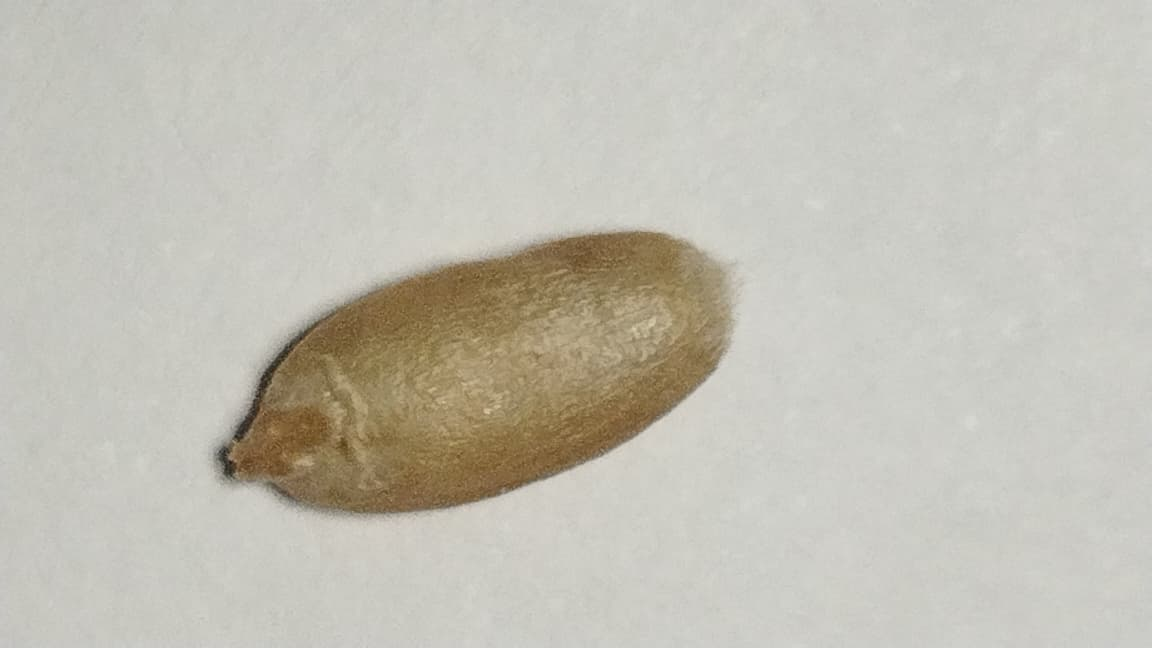healthy: (216, 225, 738, 486), (263, 483, 507, 520)
